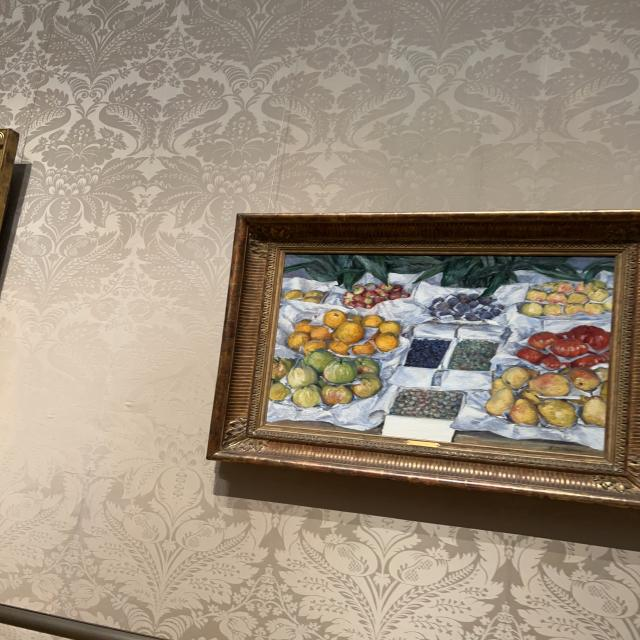fruits: (267, 257, 611, 452)
